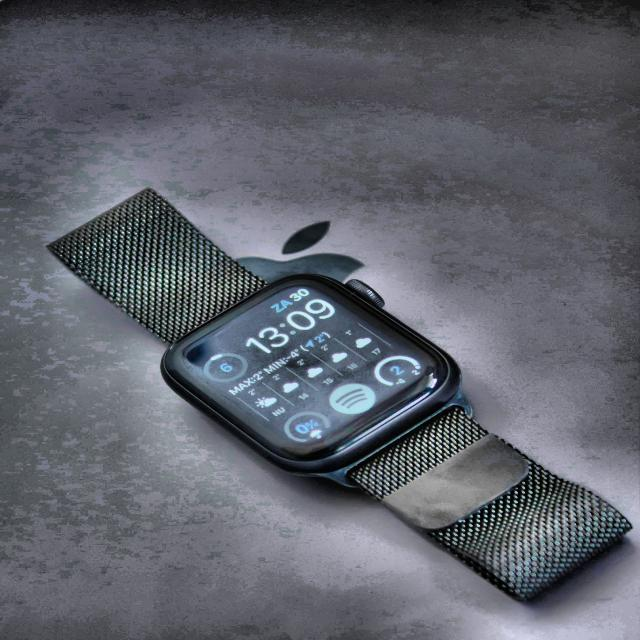Bluetooth headphones: (49, 189, 632, 600)
